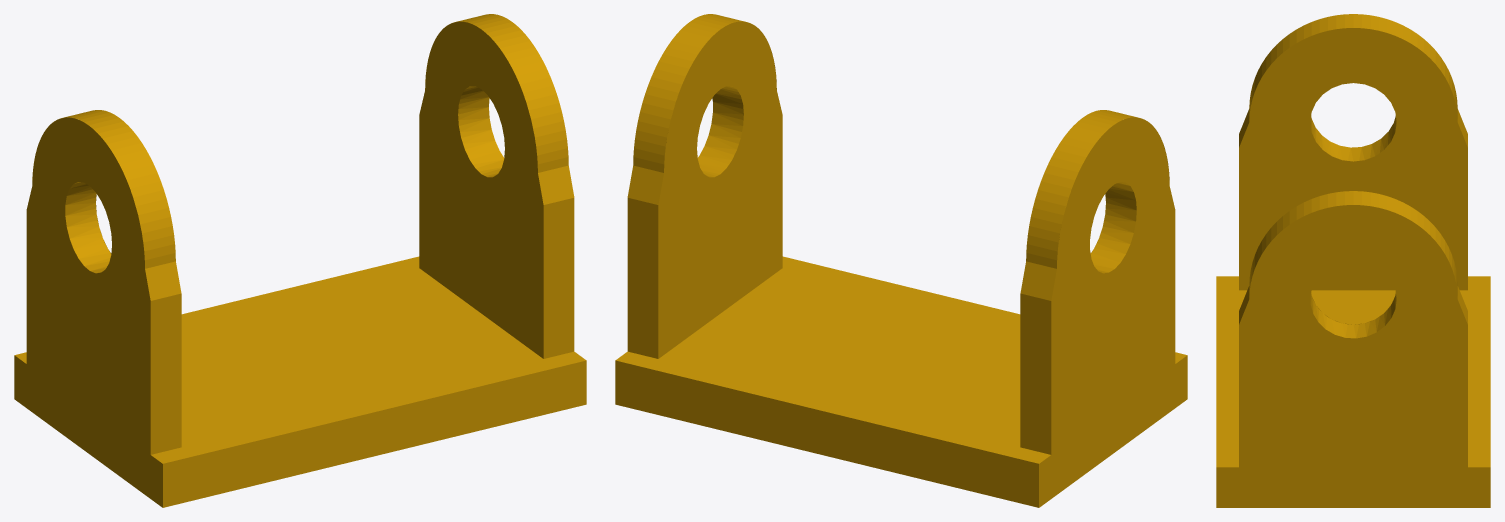
The model's file is pan_bracket.dae.
The picture shows the model from 3 angles, left to right: view 1: azimuth 30°, elevation 25°; view 2: azimuth 150°, elevation 25°; view 3: azimuth 270°, elevation 25°; orthographic projection. The views are drawn at different scales.
Visible parts, largest first — view 1: pan_bracket; view 2: pan_bracket; view 3: pan_bracket.
Part boxes in pixels (<box>): pan_bracket: <box>14,14,586,507</box>; pan_bracket: <box>615,14,1187,507</box>; pan_bracket: <box>1216,14,1490,507</box>.
Bounding box in the file's own units: 0.0412 × 0.025 × 0.0305.
